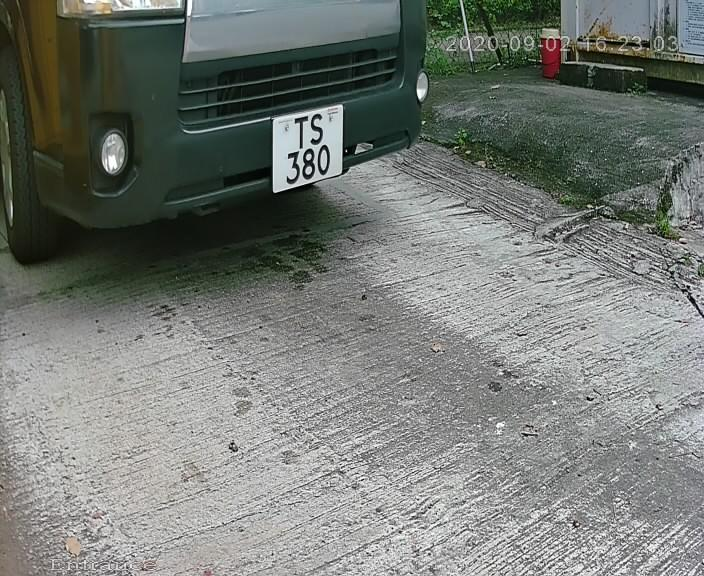Car: (23, 1, 485, 291)
License Plate: (261, 101, 356, 196)
